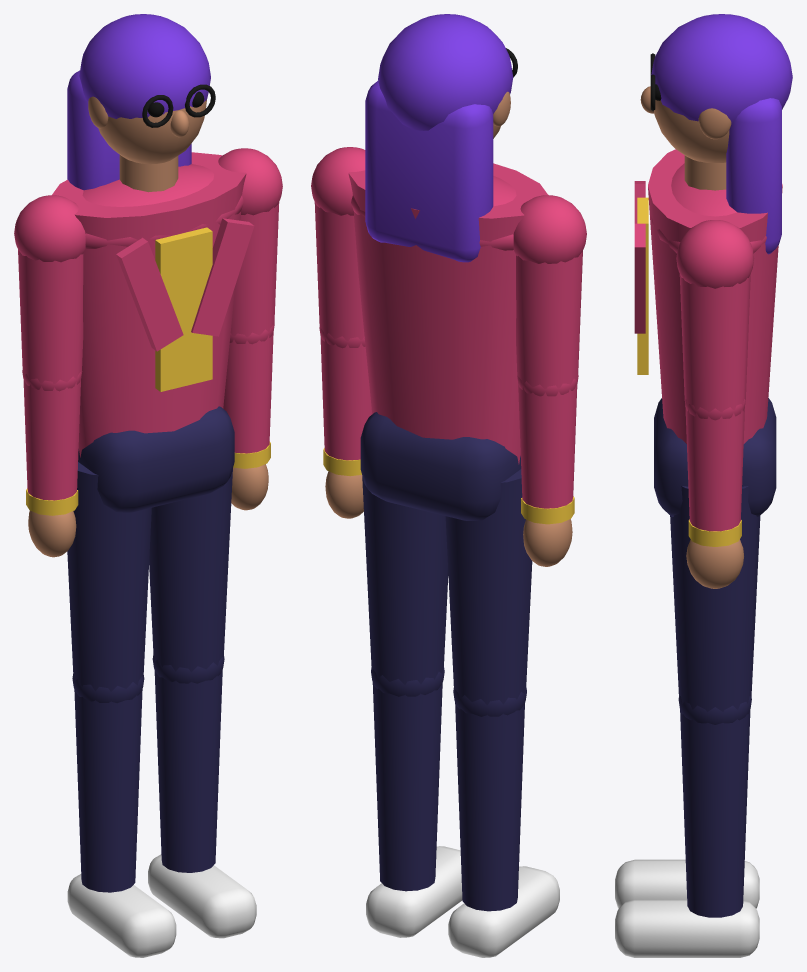
The model's file is chica_creativa.glb.
The picture shows the model from 3 angles, left to right: view 1: azimuth 30°, elevation 25°; view 2: azimuth 150°, elevation 25°; view 3: azimuth 270°, elevation 25°; orthographic projection. The views are drawn at different scales.
Visible parts, largest first — view 1: body, leg_L, leg_R, arm_L, arm_R; view 2: body, leg_L, leg_R, arm_L, arm_R; view 3: body, leg_R, arm_R, leg_L.
Boxes of the visible parts, <box> form: body: <box>52,14,254,512</box>; leg_L: <box>67,462,176,957</box>; leg_R: <box>148,469,256,938</box>; arm_L: <box>14,195,85,557</box>; arm_R: <box>218,148,282,510</box>; body: <box>348,14,548,520</box>; leg_L: <box>445,469,559,957</box>; leg_R: <box>362,476,462,937</box>; arm_L: <box>513,195,586,566</box>; arm_R: <box>311,147,372,518</box>; body: <box>634,14,792,516</box>; leg_R: <box>615,486,760,957</box>; arm_R: <box>676,220,754,588</box>; leg_L: <box>615,859,759,908</box>.
Size of the model in its own units: 0.548 by 1.81 by 0.3195.
